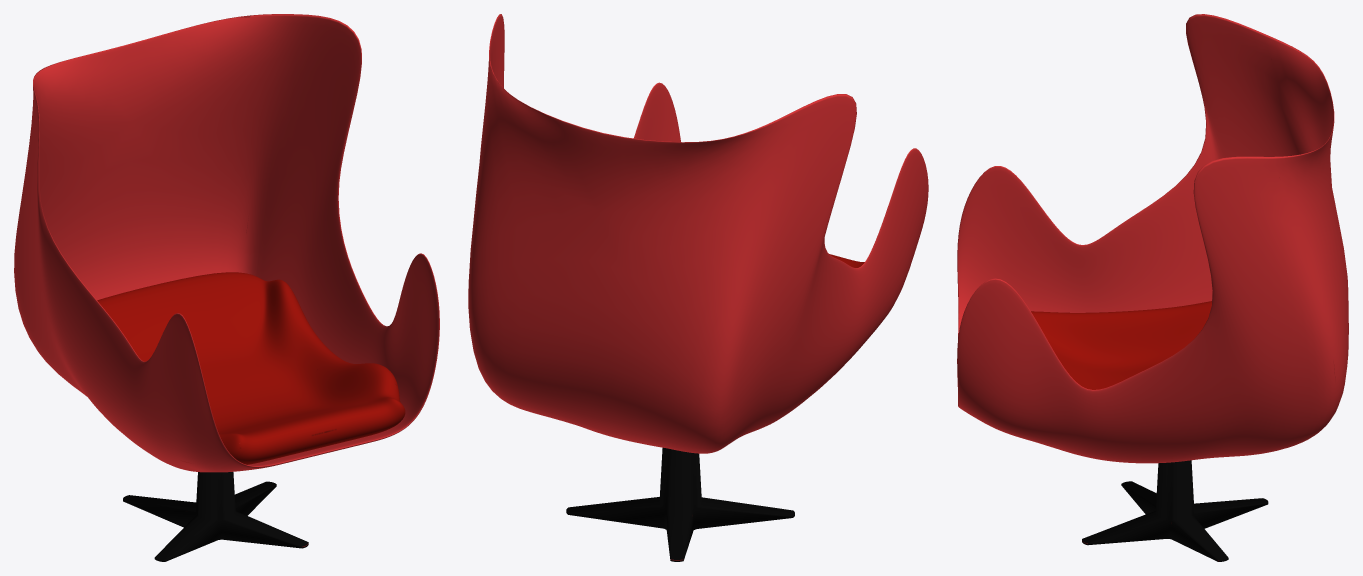
Rendered from furniture003.glb.
3 views of the same model, side by side, from view 1: azimuth 30°, elevation 25°; view 2: azimuth 150°, elevation 25°; view 3: azimuth 270°, elevation 25° (orthographic). The views are drawn at different scales.
Parts seen in each view (by area): view 1: Furniture_No-03; view 2: Furniture_No-03; view 3: Furniture_No-03.
Part boxes in pixels (x1,y1,x2,y2): Furniture_No-03: (14,14,439,561); Furniture_No-03: (468,14,928,561); Furniture_No-03: (957,14,1348,561).
Size of the model in its own units: 6.43 by 8.58 by 6.87.
1 material, 1 textured.
